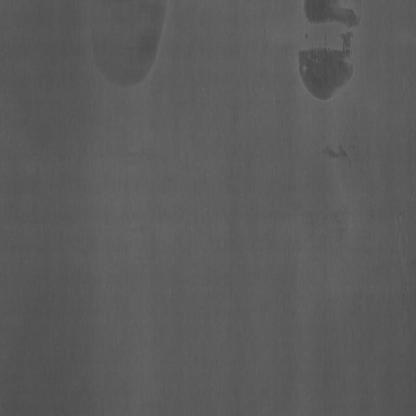oil_spot: (82, 0, 171, 93), (297, 2, 362, 108)
